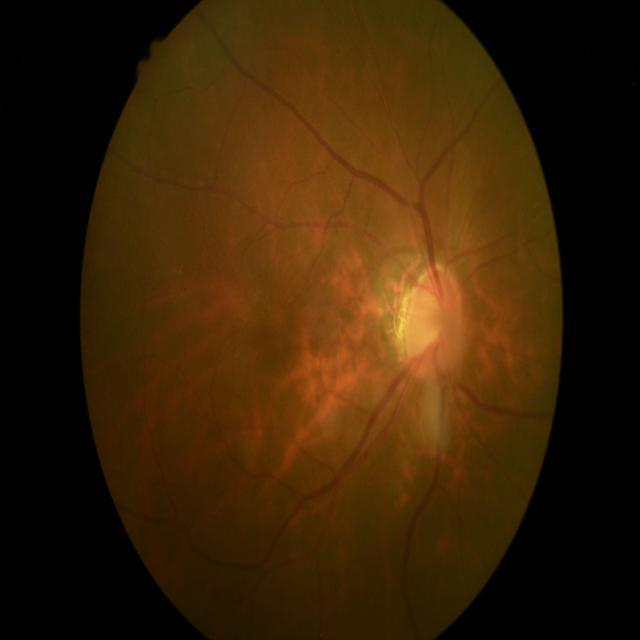cup: (415, 282, 452, 358)
disk: (396, 262, 468, 378)
